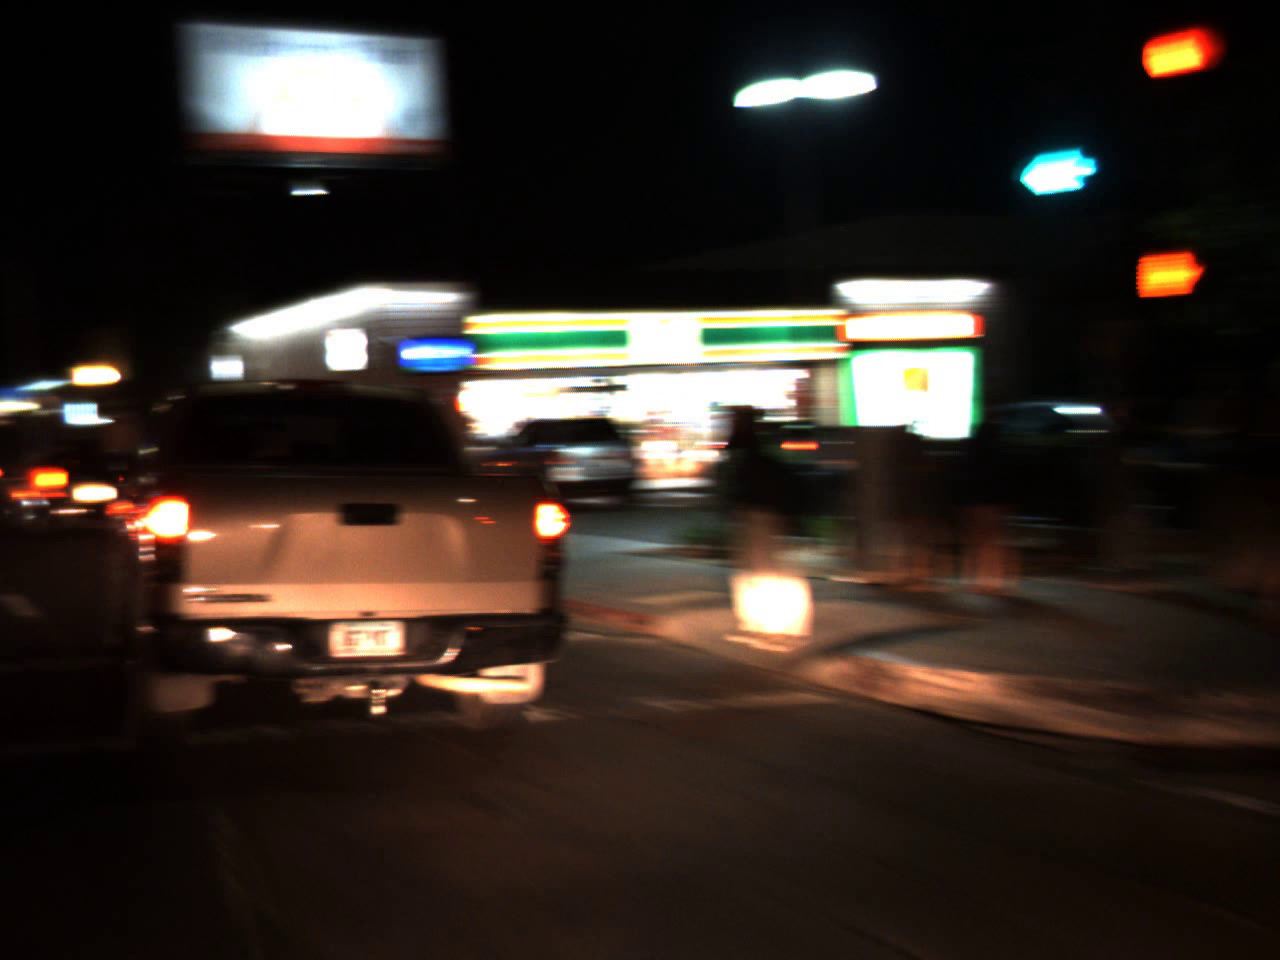go: (1000, 116, 1113, 203)
